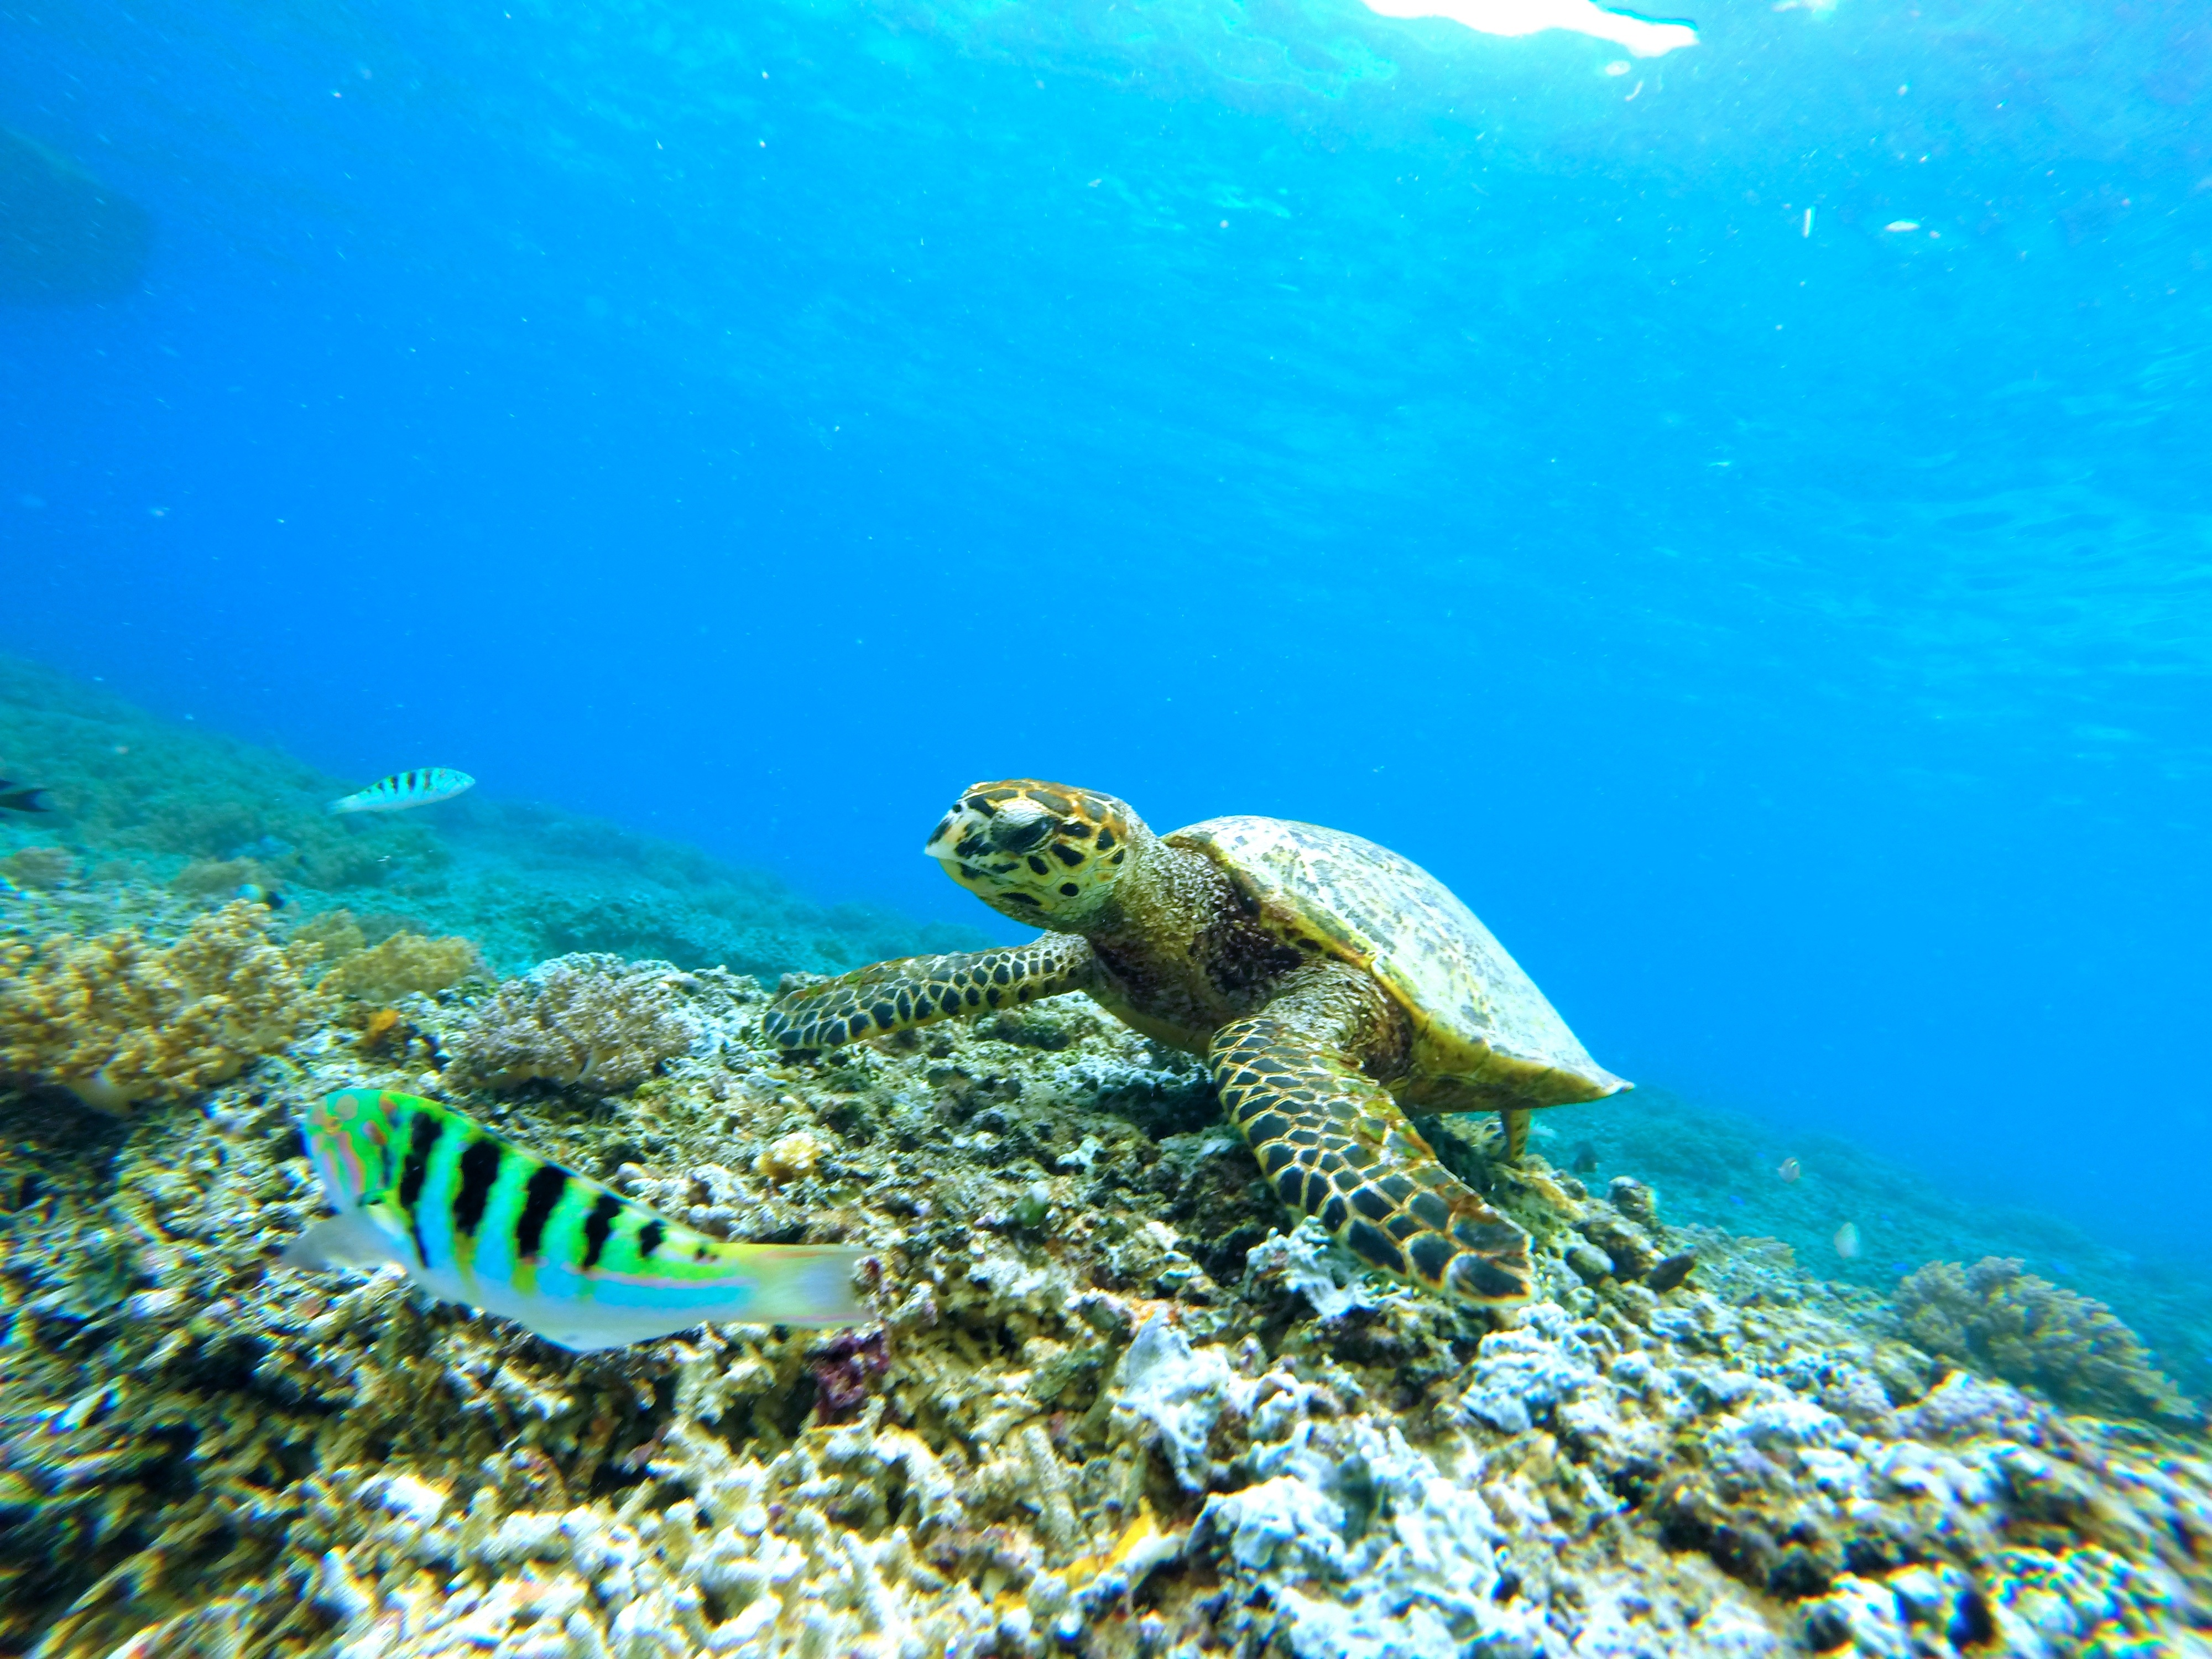fish: (249, 1060, 859, 1401), (324, 744, 479, 830)
trutle: (754, 737, 1674, 1305)
